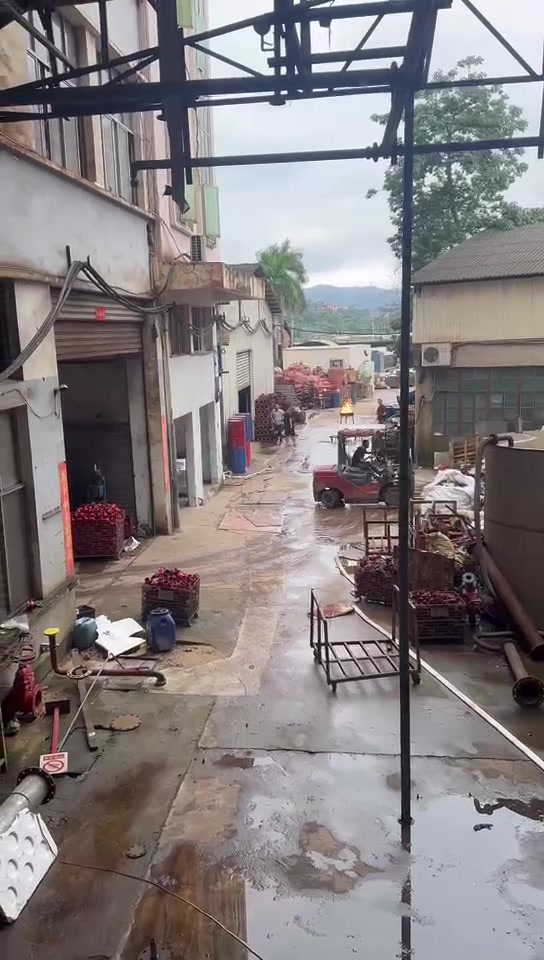fire: (339, 400, 352, 413)
